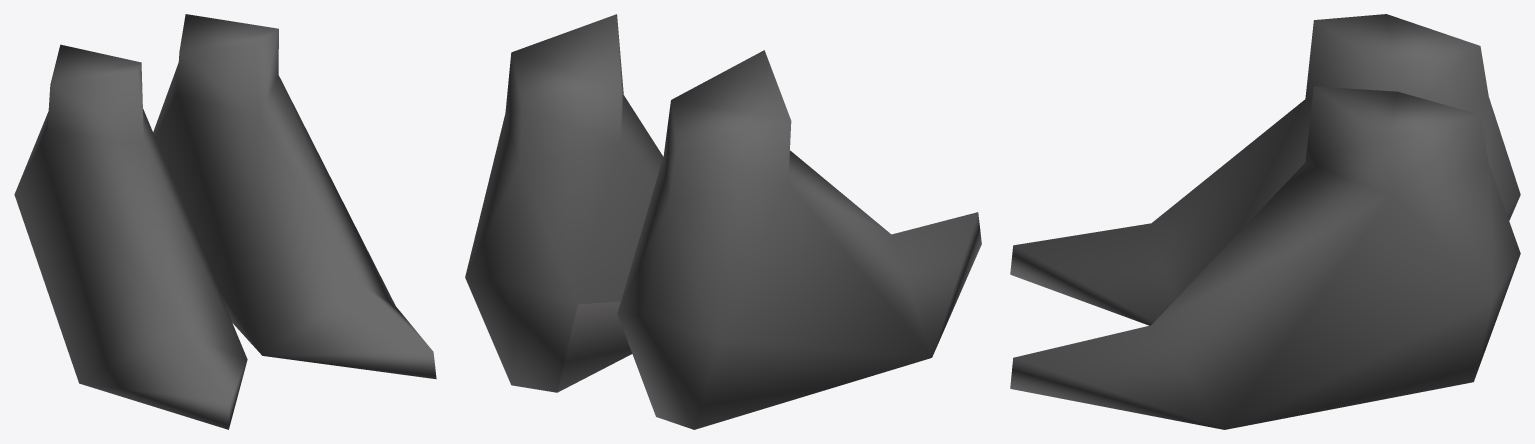
The model's file is f_Shoes4.glb.
The picture shows the model from 3 angles, left to right: view 1: azimuth 30°, elevation 25°; view 2: azimuth 150°, elevation 25°; view 3: azimuth 270°, elevation 25°; orthographic projection. The views are drawn at different scales.
Parts seen in each view (by area): view 1: Shoes4; view 2: Shoes4; view 3: Shoes4.
Boxes of the visible parts, x1=… form: Shoes4: x1=14, y1=14, x2=436, y2=429; Shoes4: x1=465, y1=14, x2=981, y2=429; Shoes4: x1=1010, y1=14, x2=1520, y2=429.
Size of the model in its own units: 11.66 by 9.04 by 14.46.
Materials: 1 (1 with a texture image).
